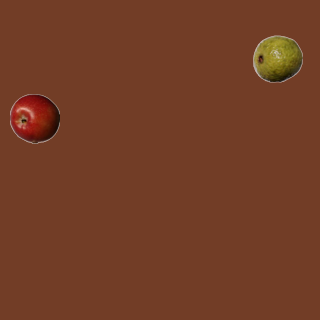Apple Braeburn: (9, 93, 59, 143)
Guava: (252, 33, 302, 83)
